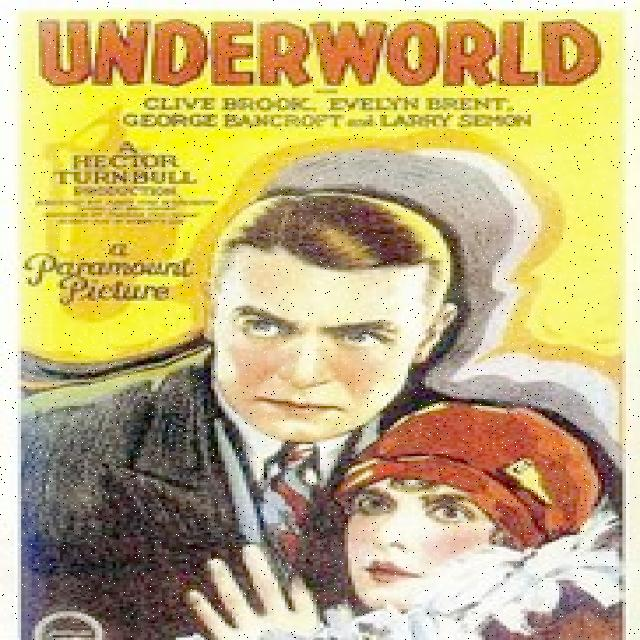movie-judul: (32, 7, 616, 102)
picture: (38, 188, 632, 638)
